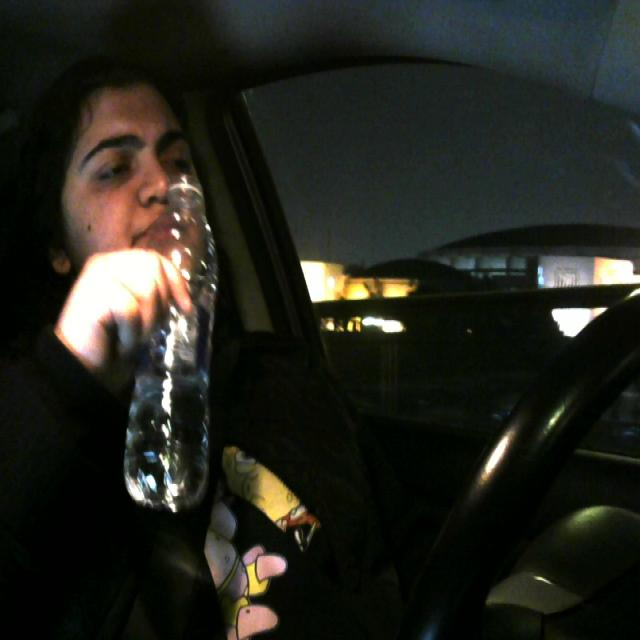drinking: (121, 173, 218, 520)
